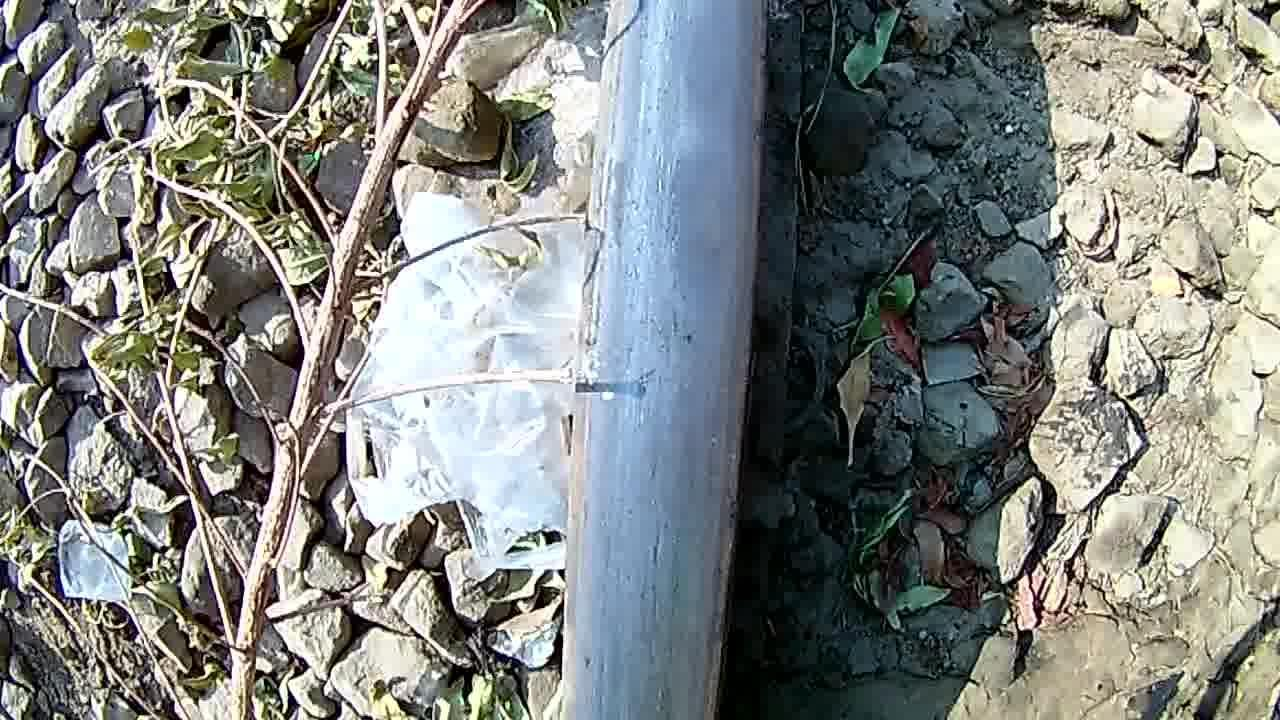crack: (613, 0, 779, 372)
